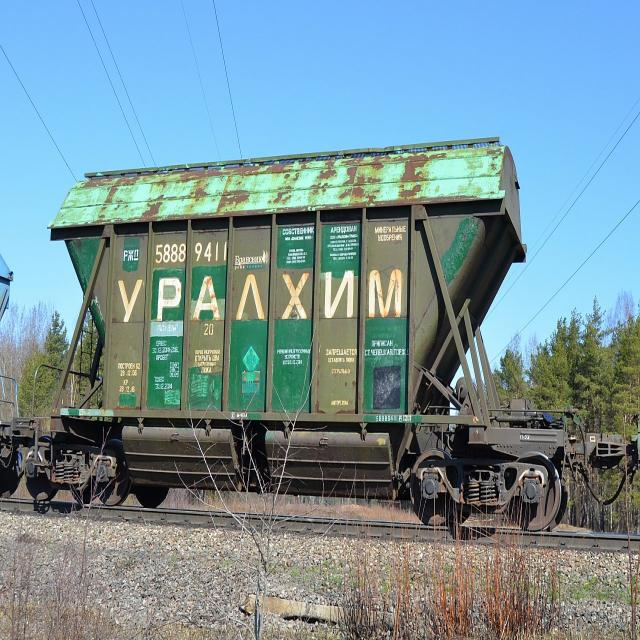Cart: (410, 448, 564, 534), (26, 438, 133, 510)
Coupling: (575, 428, 630, 474), (8, 416, 42, 446)
Hopper: (50, 143, 524, 423)
